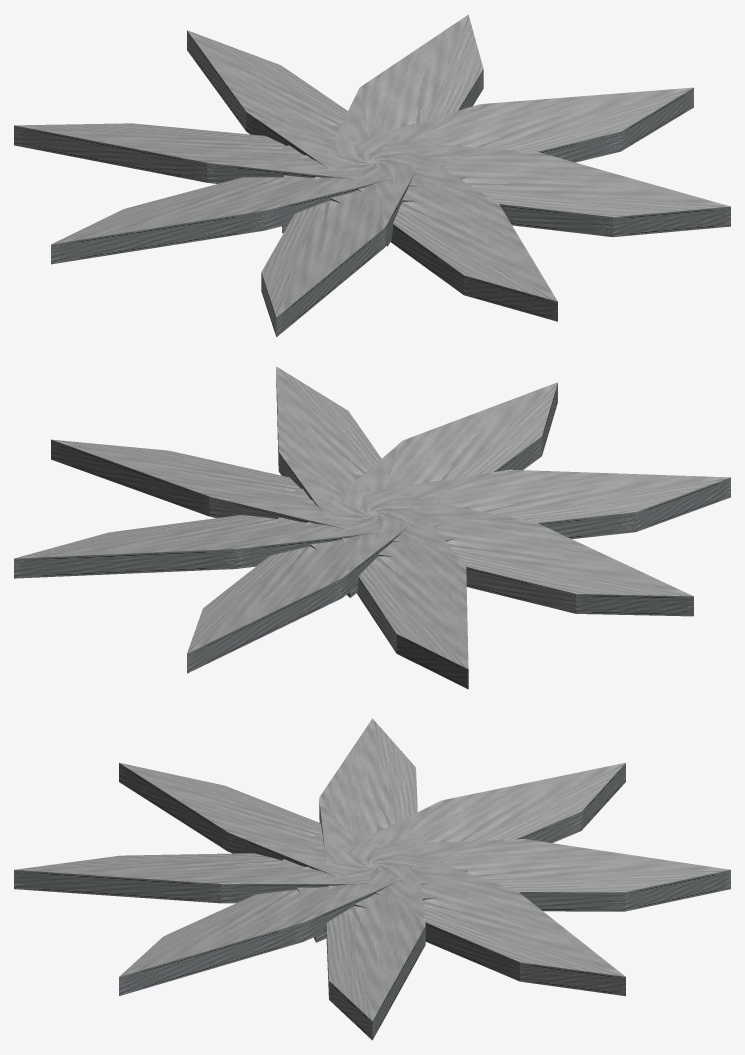
Rendered from Knifes.animated.glb.
3 views of the same model, one above another, from view 1: azimuth 30°, elevation 25°; view 2: azimuth 150°, elevation 25°; view 3: azimuth 270°, elevation 25° (orthographic). The views are drawn at different scales.
Parts seen in each view (by area): view 1: Knifes; view 2: Knifes; view 3: Knifes.
Part boxes in pixels (left/top/right/bottom): Knifes: left=14, top=14, right=730, bottom=337; Knifes: left=14, top=366, right=730, bottom=689; Knifes: left=14, top=718, right=730, bottom=1040.
Bounding box in the file's own units: 0.47 × 0.023 × 0.47.
Materials: 1 (1 with a texture image).
